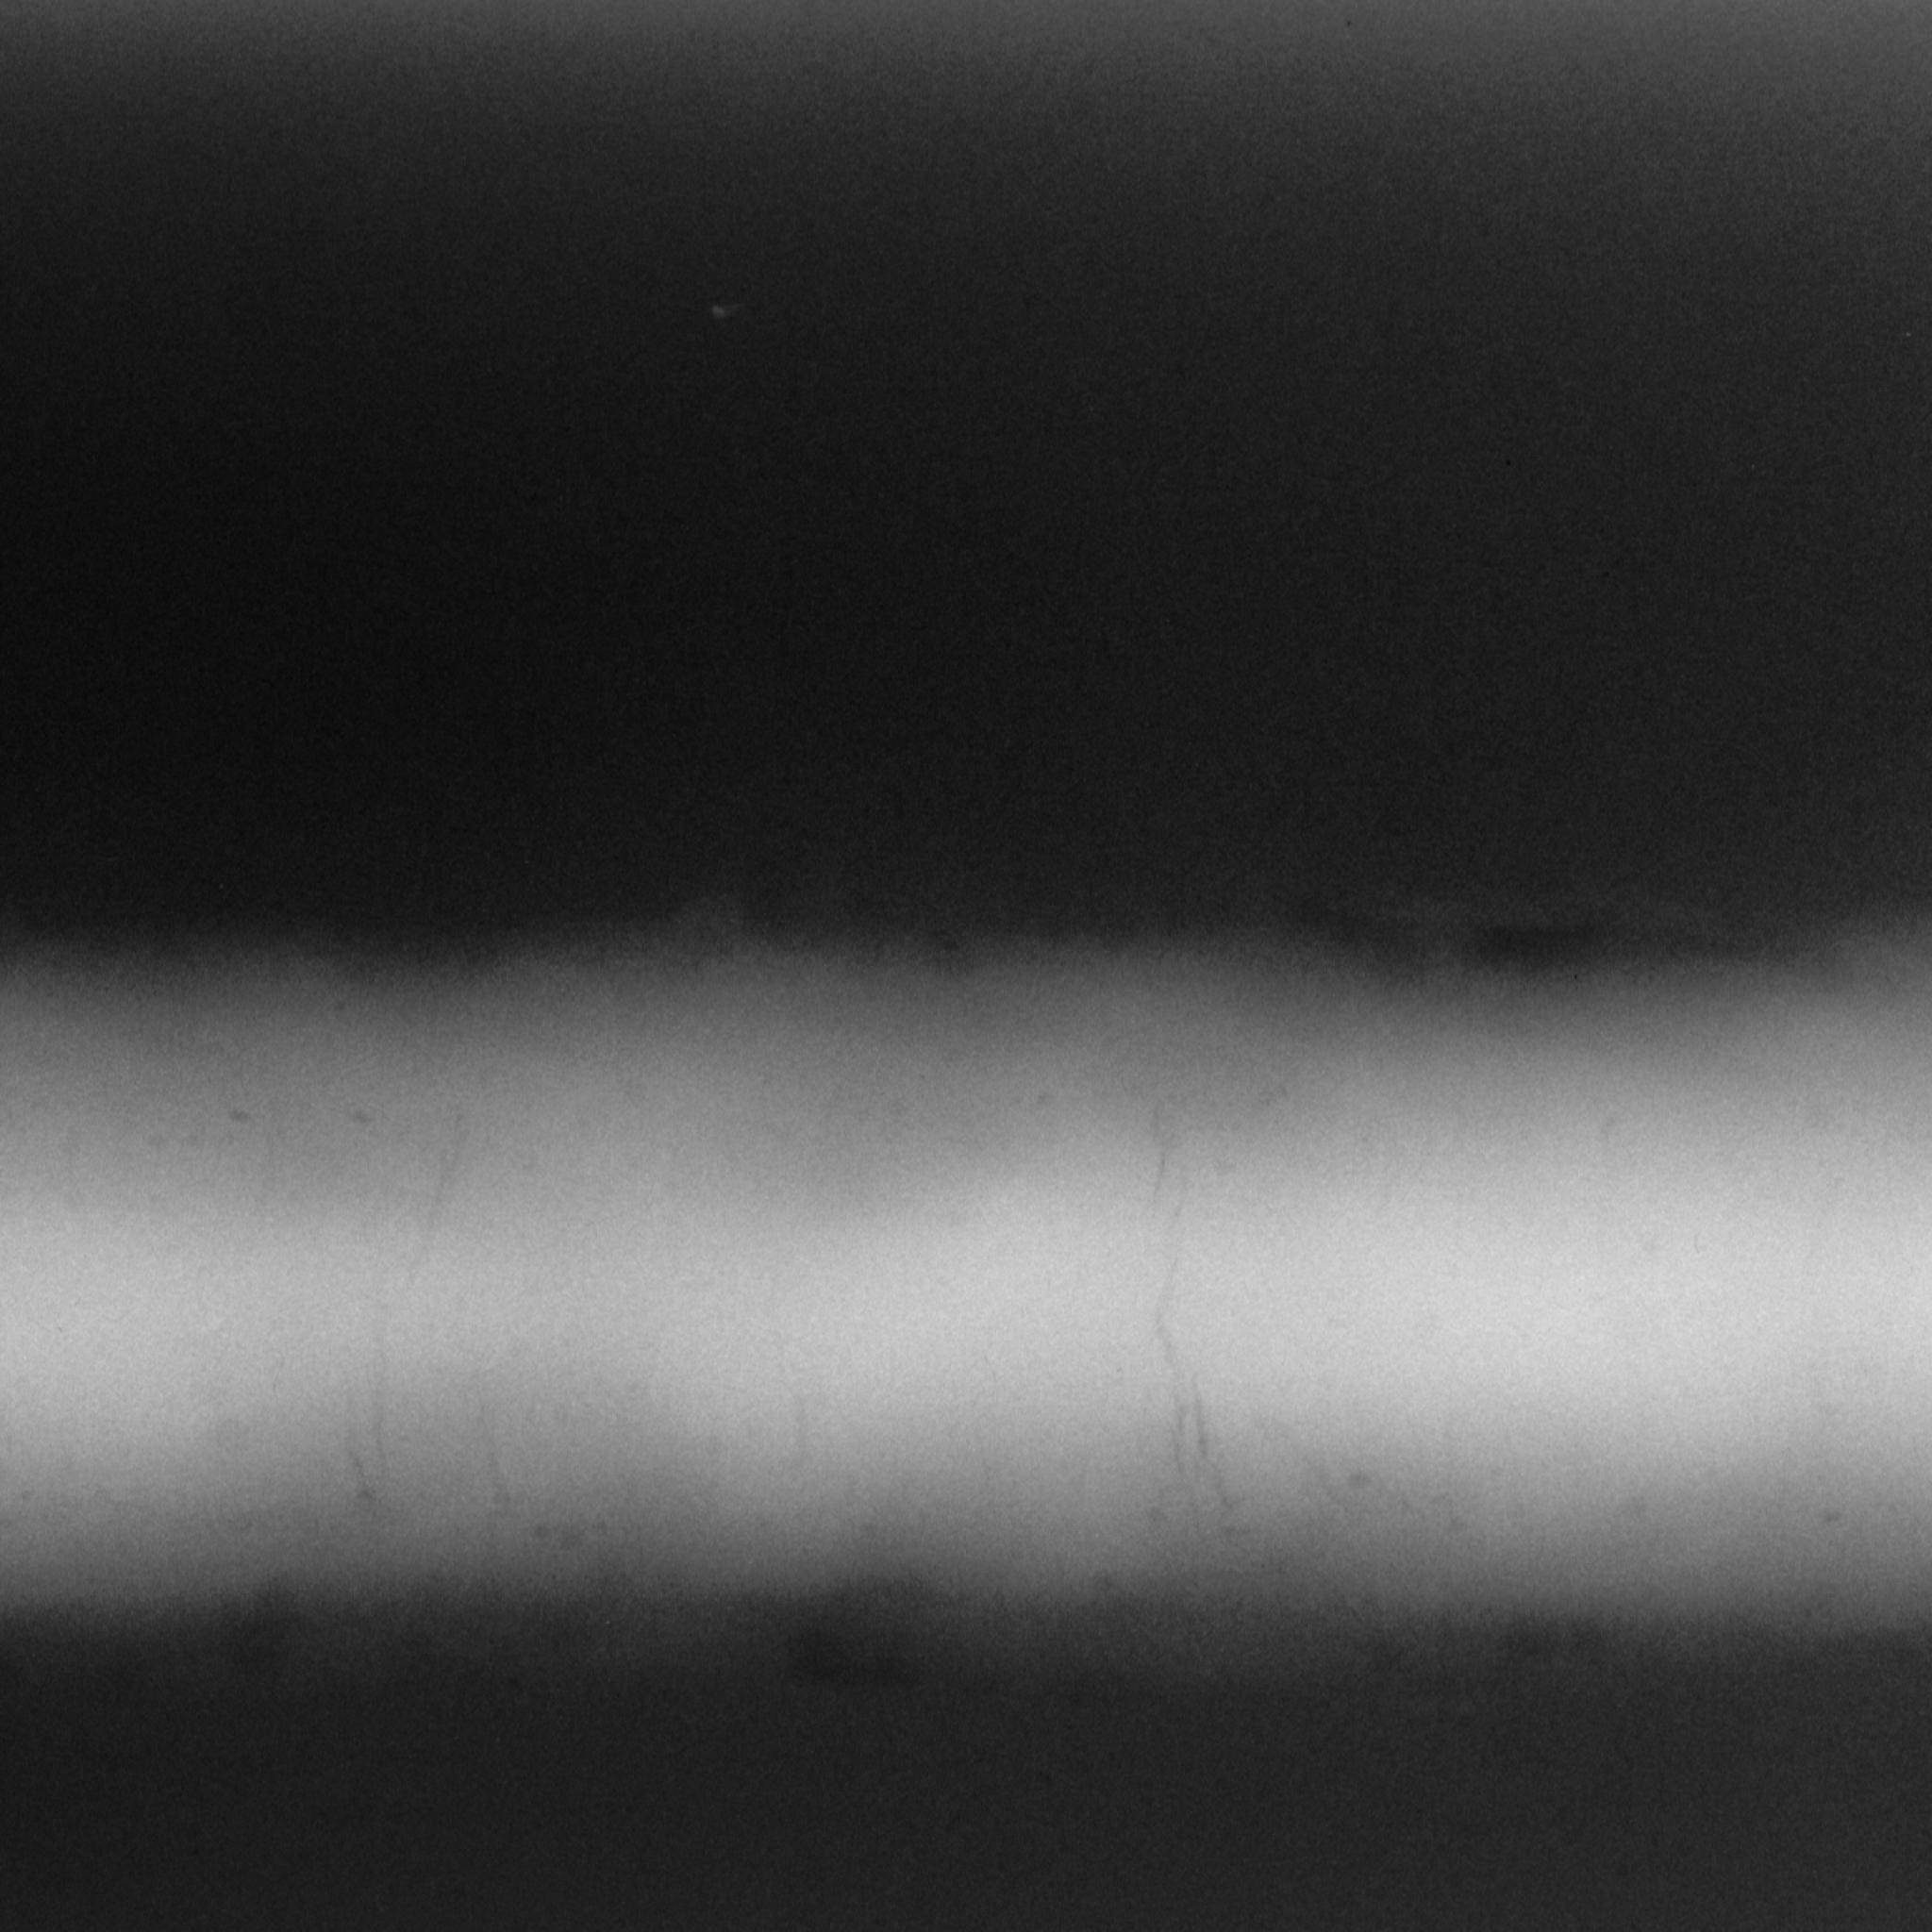PO: (525, 1504, 625, 1573), (1608, 1481, 1670, 1546), (124, 1118, 180, 1169)
TR: (218, 1046, 487, 1589), (1072, 1058, 1299, 1622)
